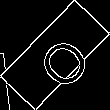O_NW: (21, 22, 89, 88)
